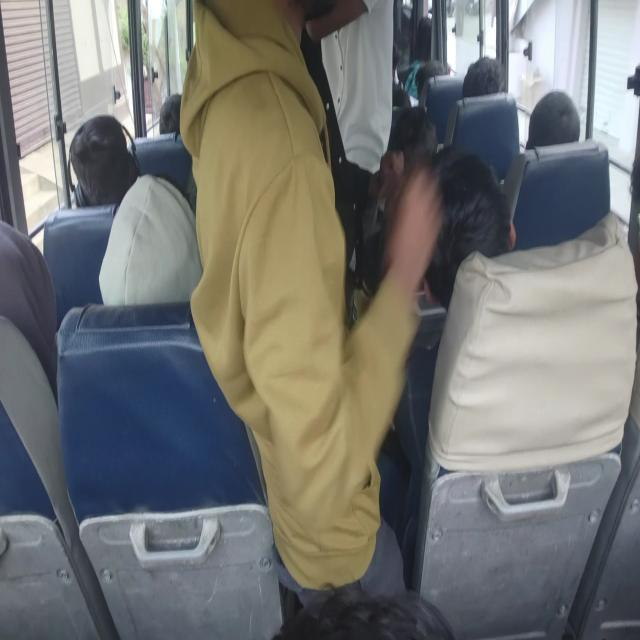person: (182, 0, 316, 156), (420, 148, 512, 308), (506, 141, 612, 253), (0, 218, 59, 405), (117, 206, 195, 336), (274, 586, 448, 639), (446, 55, 522, 137), (67, 120, 137, 203), (131, 130, 193, 192), (524, 89, 582, 152), (388, 103, 437, 173), (461, 55, 508, 100), (414, 60, 450, 104), (159, 92, 183, 137), (415, 15, 433, 63)
